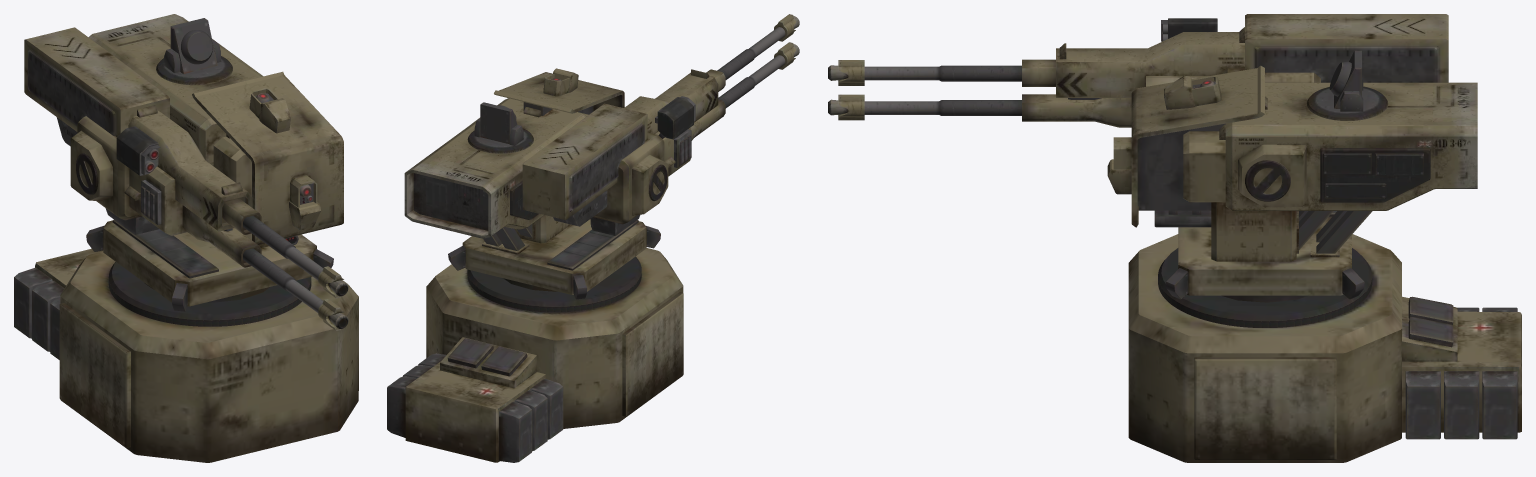
File: aagun-809a9ad4.glb
3 views of the same model, side by side, from view 1: azimuth 30°, elevation 25°; view 2: azimuth 150°, elevation 25°; view 3: azimuth 270°, elevation 25° (orthographic). The views are drawn at different scales.
Visible parts, largest first — view 1: aagun; view 2: aagun; view 3: aagun.
Boxes of the visible parts, bbox=[...] form: aagun: bbox=[14, 14, 358, 462]; aagun: bbox=[387, 14, 799, 462]; aagun: bbox=[828, 14, 1521, 462].
Size of the model in its own units: 3.4 by 4.6 by 8.08.
1 material, 1 textured.
